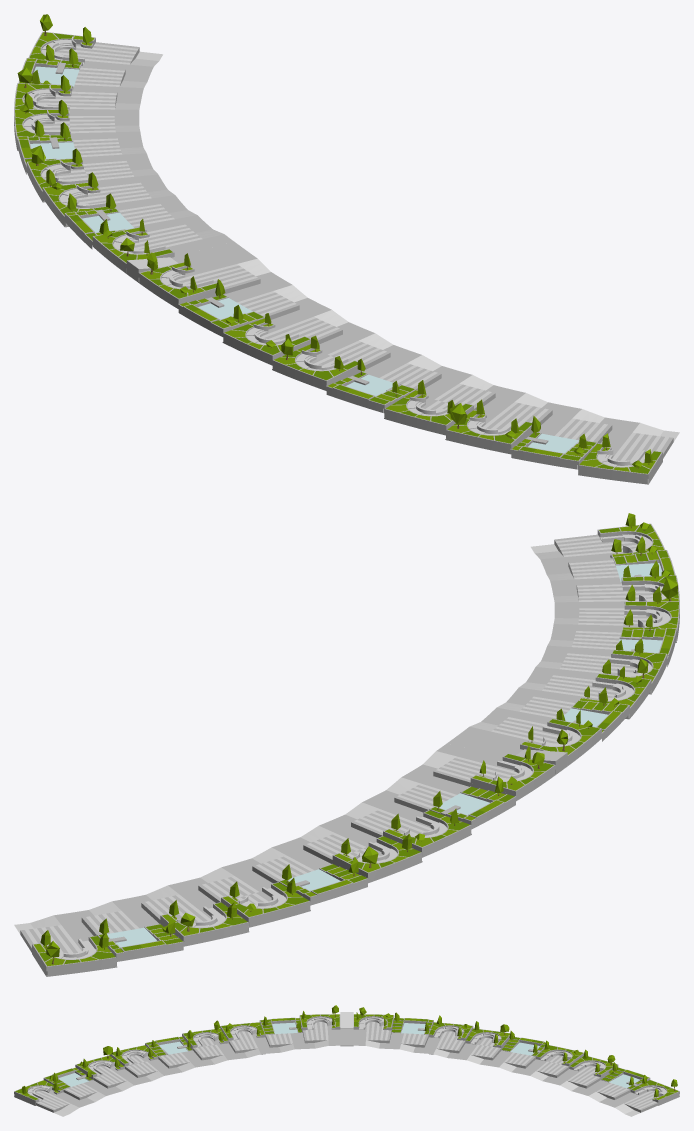
Rendered from ring5_segment_low.glb.
The picture shows the model from 3 angles, top to bottom: view 1: azimuth 30°, elevation 25°; view 2: azimuth 150°, elevation 25°; view 3: azimuth 270°, elevation 25°; orthographic projection. The views are drawn at different scales.
Parts seen in each view (by area): view 1: RING_5_MOD_LOW; view 2: RING_5_MOD_LOW; view 3: RING_5_MOD_LOW.
Boxes of the visible parts, x1,y1,x2,y2 form: RING_5_MOD_LOW: (14,14,679,484); RING_5_MOD_LOW: (14,513,679,976); RING_5_MOD_LOW: (14,1005,679,1116).
Size of the model in its own units: 5975 by 1333 by 21662.
